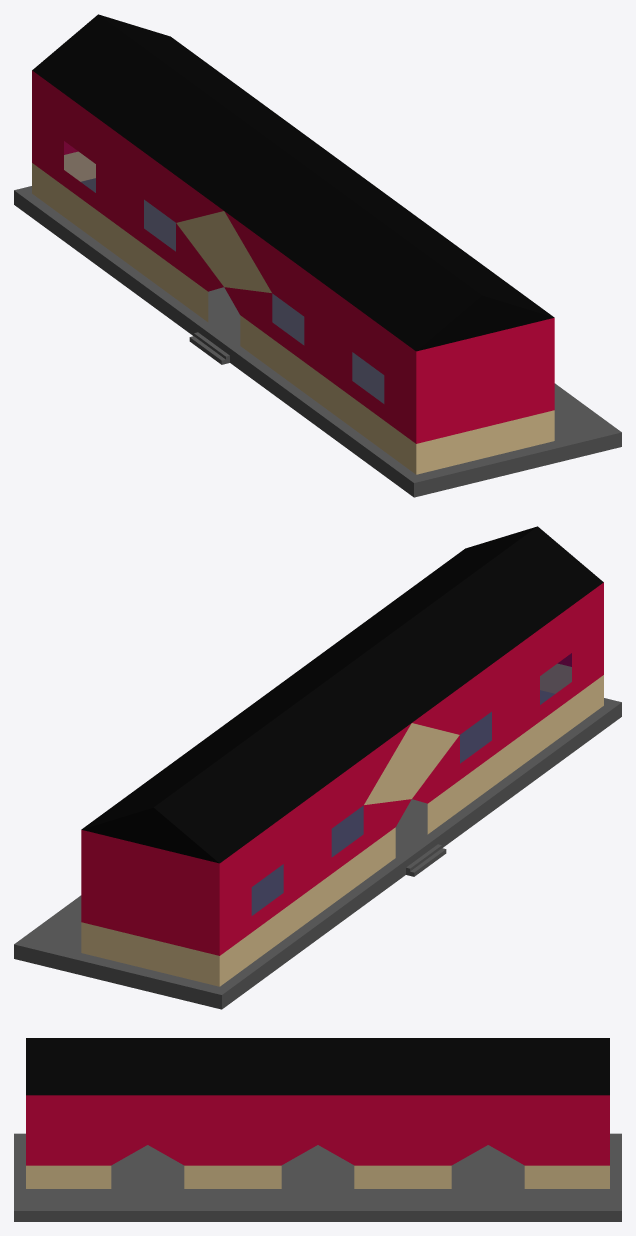
The model's file is station.glb.
The picture shows the model from 3 angles, top to bottom: view 1: azimuth 30°, elevation 25°; view 2: azimuth 150°, elevation 25°; view 3: azimuth 270°, elevation 25°; orthographic projection. The views are drawn at different scales.
Visible parts, largest first — view 1: building.001, platform.001; view 2: building.001, platform.001; view 3: building.001, platform.001.
Boxes of the visible parts, left/top/right/bottom form: building.001: left=32, top=14, right=554, bottom=474; platform.001: left=14, top=178, right=621, bottom=497; building.001: left=81, top=526, right=603, bottom=986; platform.001: left=14, top=690, right=621, bottom=1009; building.001: left=26, top=1038, right=609, bottom=1188; platform.001: left=14, top=1133, right=621, bottom=1221.
Size of the model in its own units: 15.6 by 12.25 by 50.
